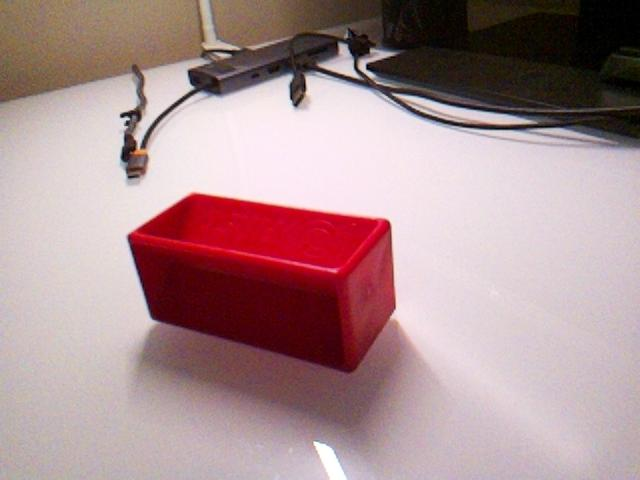red: (126, 190, 398, 373)
